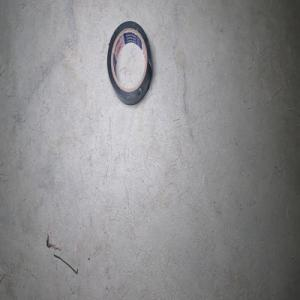Tape: (106, 20, 152, 105)
